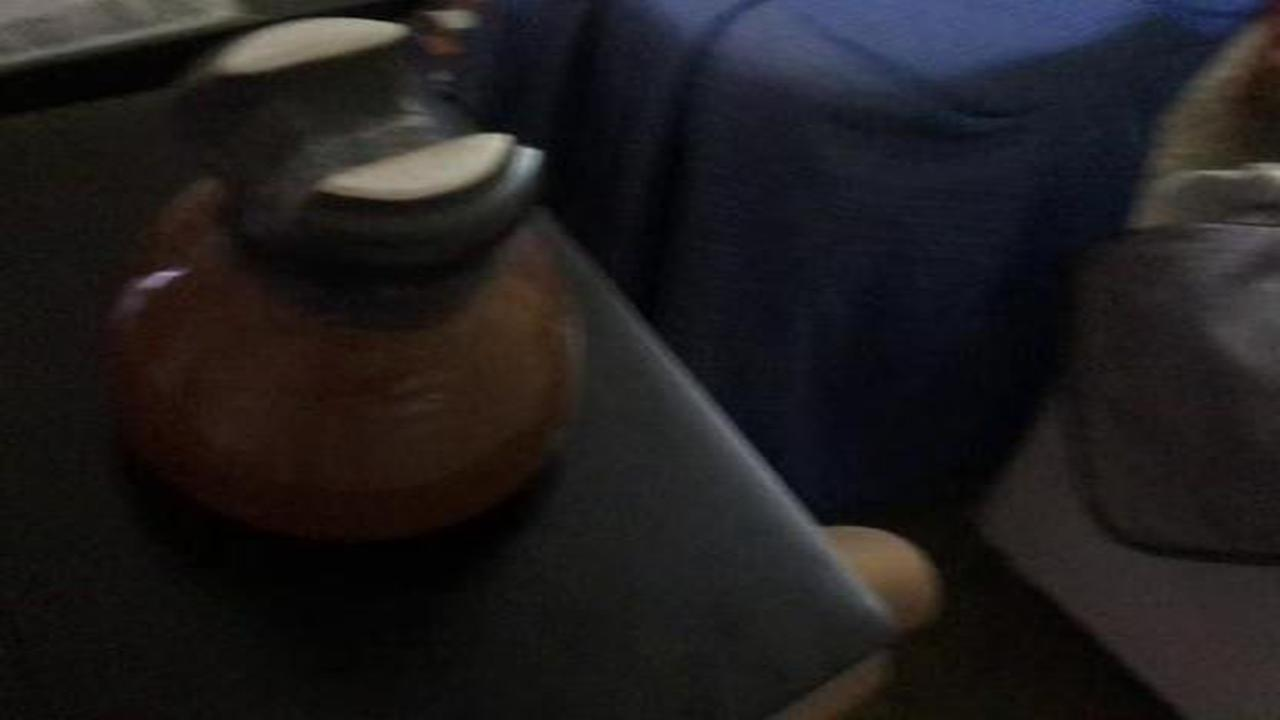insulator_pin: (83, 1, 588, 546)
